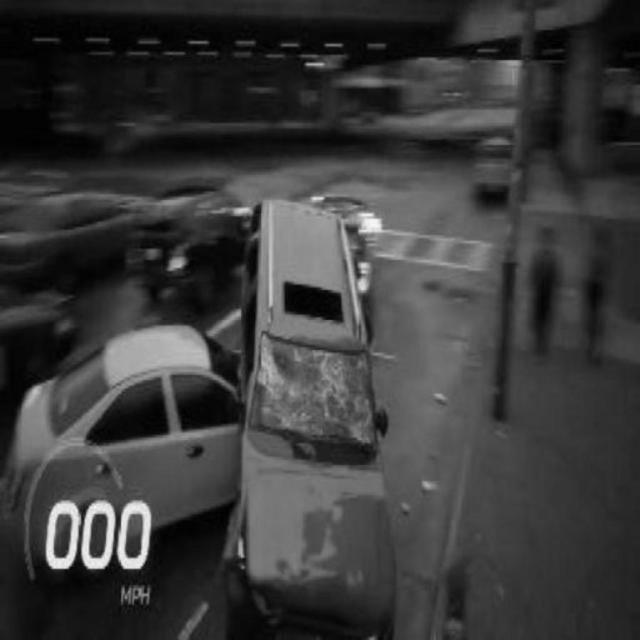accident: (12, 202, 399, 626)
person: (524, 217, 565, 361)
vehicle: (128, 182, 246, 306), (2, 181, 126, 299)
